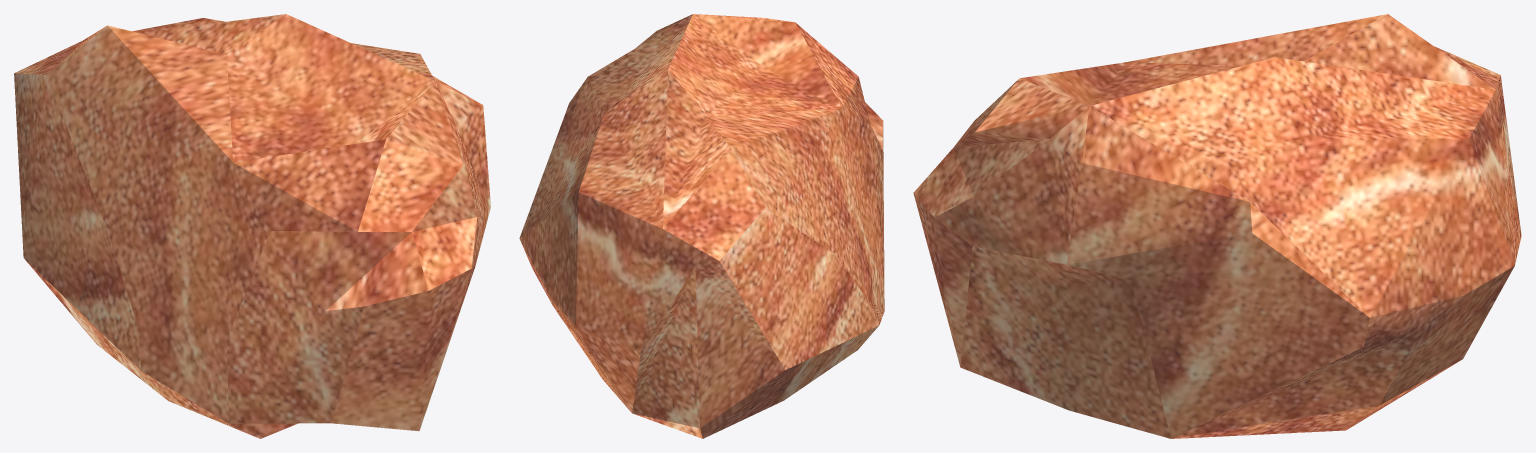
The model's file is boulder-character-n.glb.
3 views of the same model, side by side, from view 1: azimuth 30°, elevation 25°; view 2: azimuth 150°, elevation 25°; view 3: azimuth 270°, elevation 25° (orthographic). The views are drawn at different scales.
Parts seen in each view (by area): view 1: Icosahedron_n3d; view 2: Icosahedron_n3d; view 3: Icosahedron_n3d.
Part boxes in pixels (box(x1,y1,x2,y2)): Icosahedron_n3d: box(14, 14, 490, 438); Icosahedron_n3d: box(519, 14, 884, 438); Icosahedron_n3d: box(913, 14, 1521, 438).
Size of the model in its own units: 0.1181 by 0.1239 by 0.1805.
Materials: 1 (1 with a texture image).
